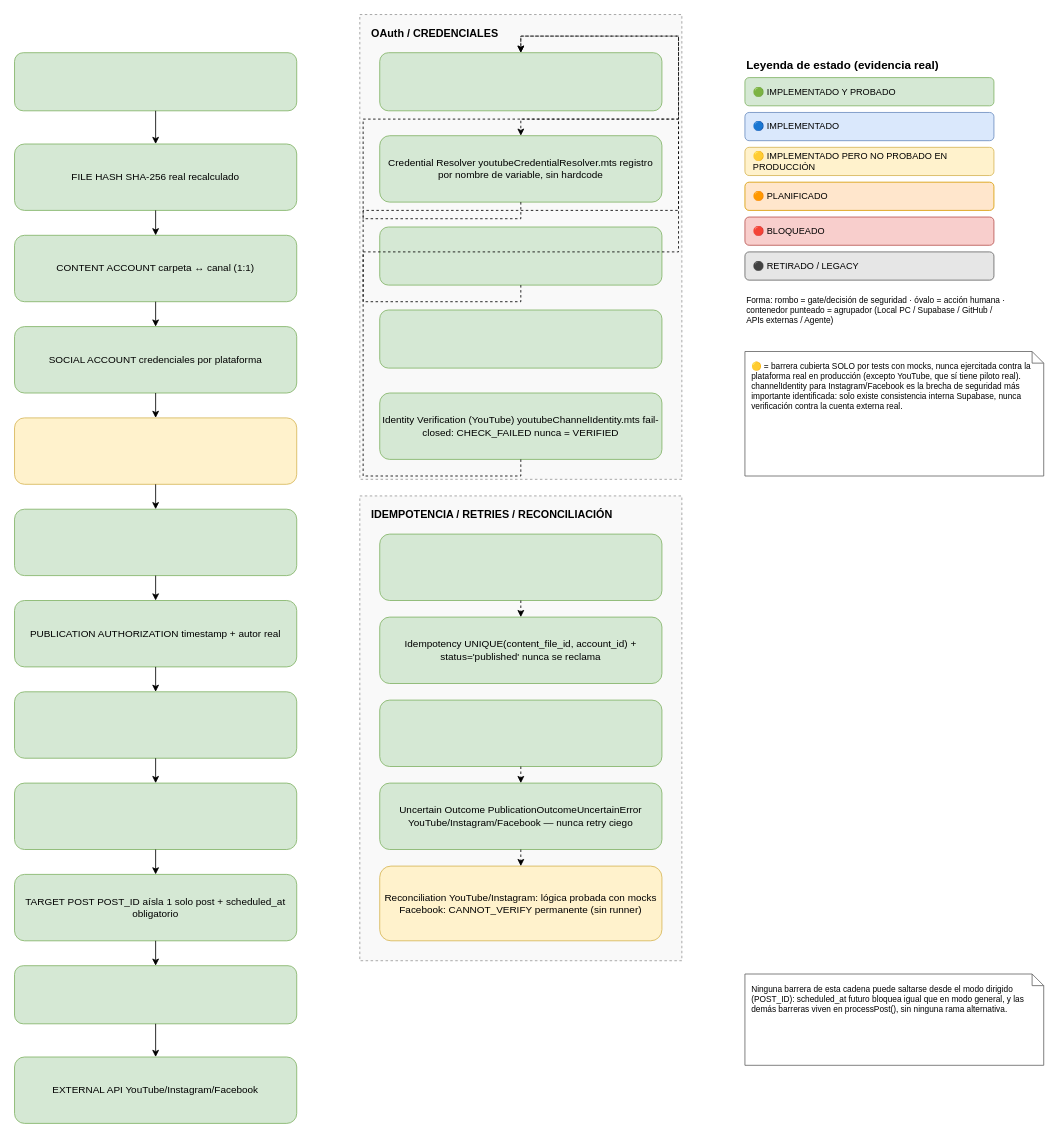
Image size: 1058x1138. Some labels were removed from this diagram. Each missing label, with the centre of its shape:
"Atomic Claim UPDATE ... WHERE status='pending' exclusión mutua real (Postgres)" goes at (x=520, y=567).
"CHANNEL IDENTITY YouTube: verificado vs API real Instagram/Facebook: NO EXISTE" goes at (x=155, y=450).
"CHANNEL STATUS ACTIVE autoriza real" goes at (x=155, y=542).
"CONTENT archivo físico en disco" goes at (x=155, y=81).
"DRY_RUN fail-safe: true por defecto" goes at (x=155, y=816).
"Git exclusion .gitignore: .env*.local 0 secretos trackeados (escaneo real)" goes at (x=520, y=338).
"HUMAN REVIEW por post, no por canal" goes at (x=155, y=724).
"OAuth Google (real) / Meta (sin identidad verificada)" goes at (x=520, y=81).
"PUBLISHER lib/social/*.ts" goes at (x=155, y=994).
"Retry Policy 400/401/403/404 permanente 408/429/5xx retryable" goes at (x=520, y=733).
"Secrets .env.local (gitignored) / Supabase service_role" goes at (x=520, y=255).
